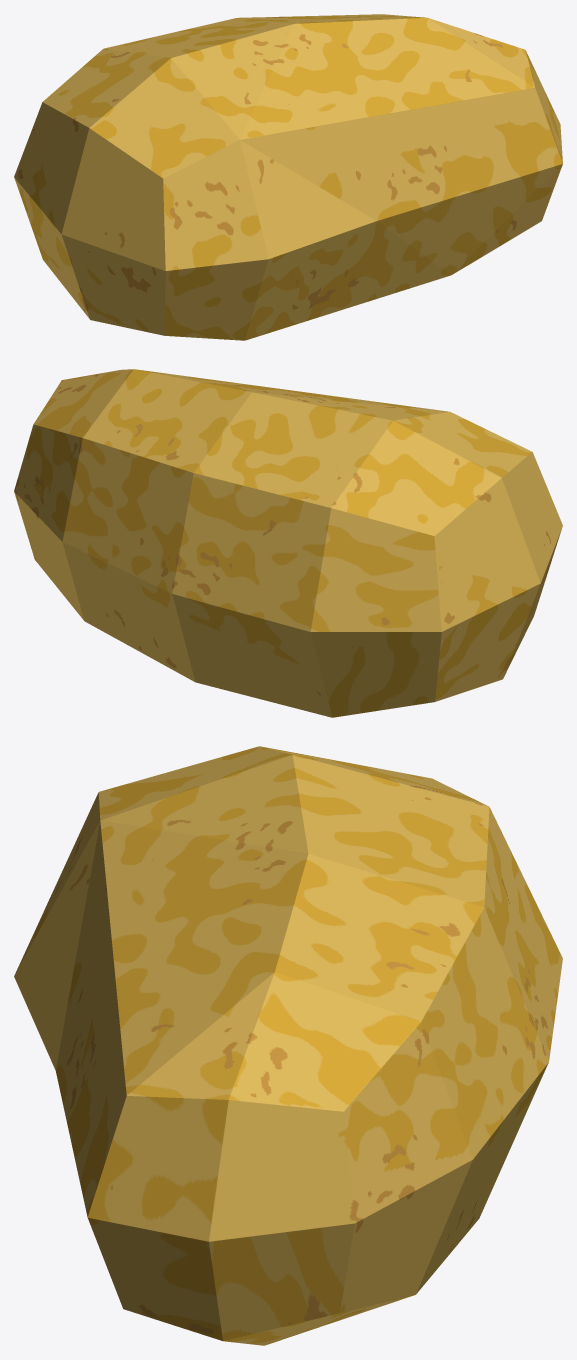
File: cosmic.glb
3 renders of one model, top to bottom at view 1: azimuth 30°, elevation 25°; view 2: azimuth 150°, elevation 25°; view 3: azimuth 270°, elevation 25°, orthographic. The views are drawn at different scales.
Parts seen in each view (by area): view 1: Patate_low; view 2: Patate_low; view 3: Patate_low.
Part boxes in pixels (x1=…): Patate_low: x1=14, y1=14, x2=562, y2=340; Patate_low: x1=14, y1=369, x2=562, y2=717; Patate_low: x1=14, y1=746, x2=562, y2=1345.
Bounding box in the file's own units: 0.9709 × 0.5201 × 0.6068.
Materials: 1 (1 with a texture image).
